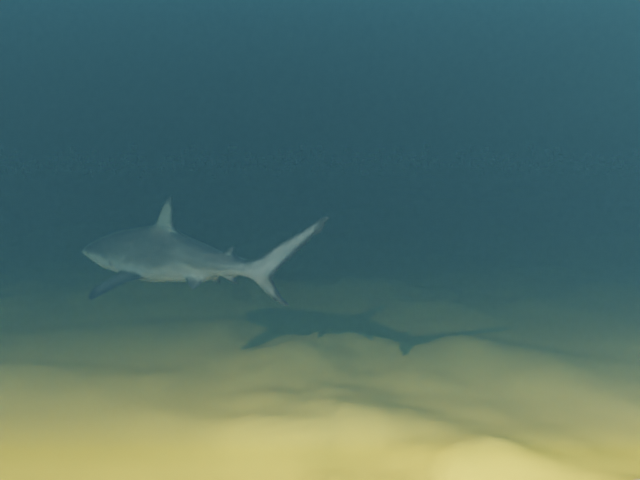Carribean Shark.001: (81, 196, 329, 306)
